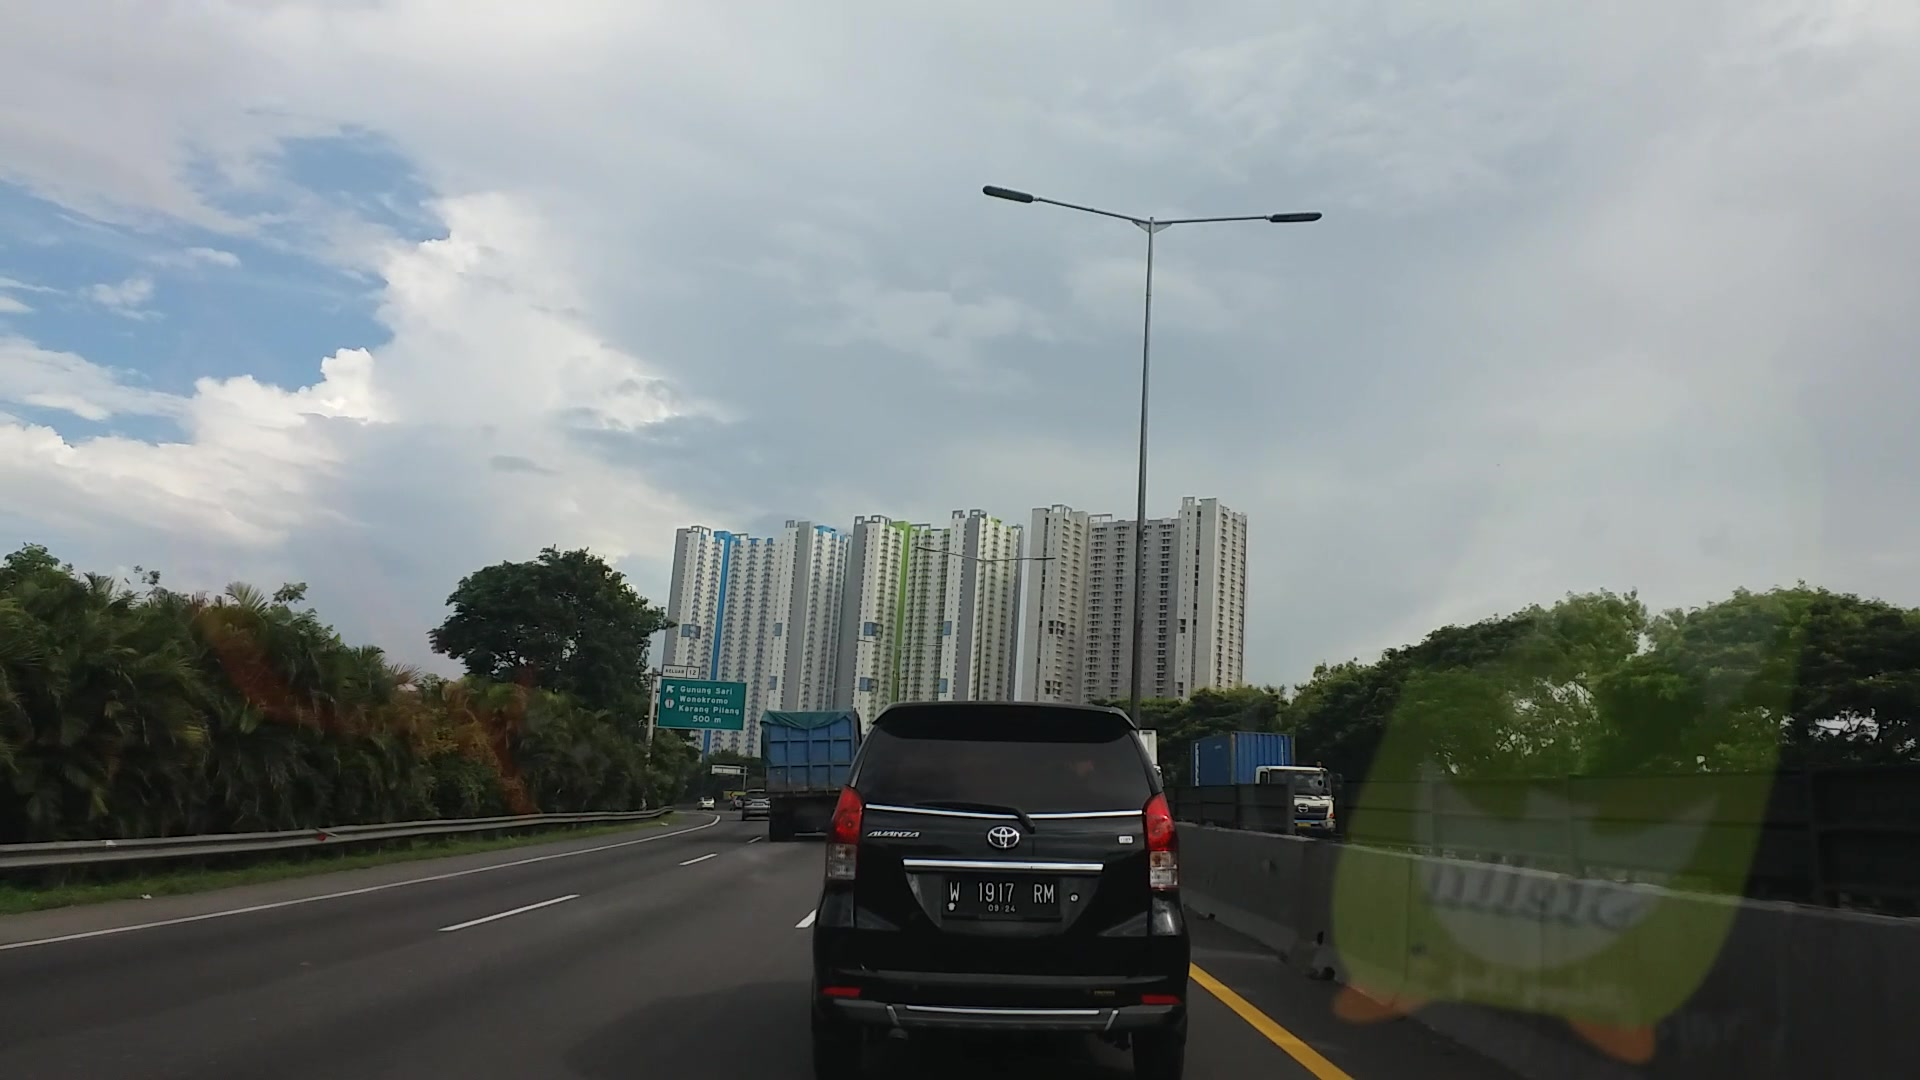plate_positive: (944, 876, 1058, 916)
